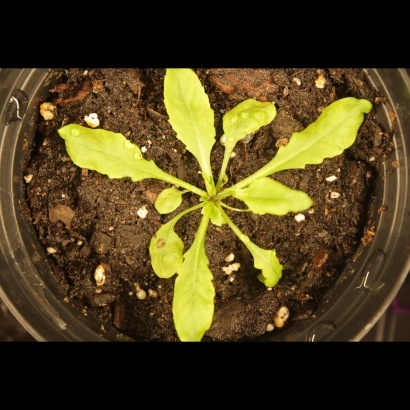leaf: (277, 89, 381, 171), (152, 59, 226, 163), (55, 120, 158, 185), (161, 243, 219, 345), (234, 176, 325, 228), (237, 233, 291, 298), (219, 88, 279, 146), (143, 224, 188, 282), (199, 196, 229, 232), (152, 187, 185, 218)
